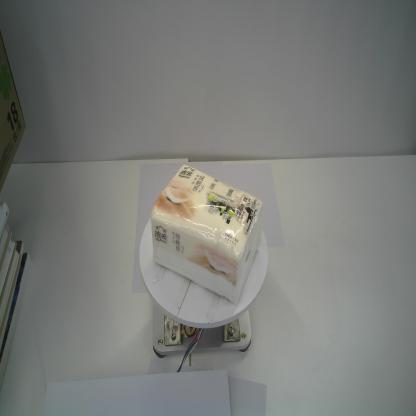Tissue: (150, 163, 264, 306)
